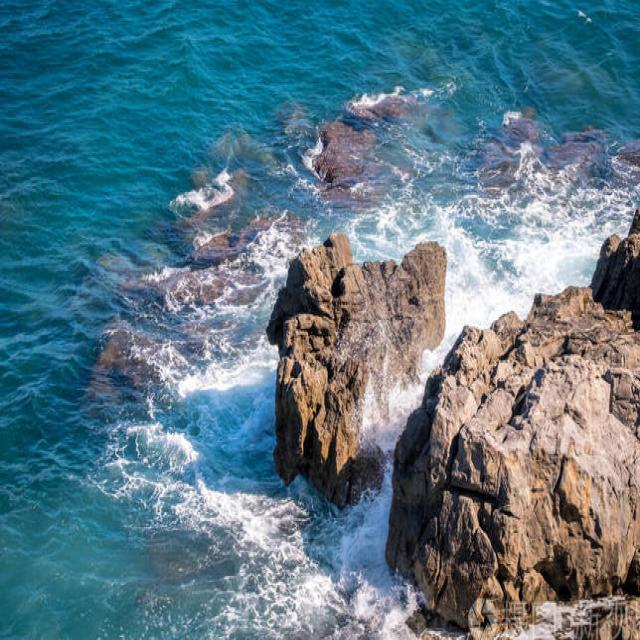reef: (225, 216, 449, 452), (290, 112, 426, 216)
